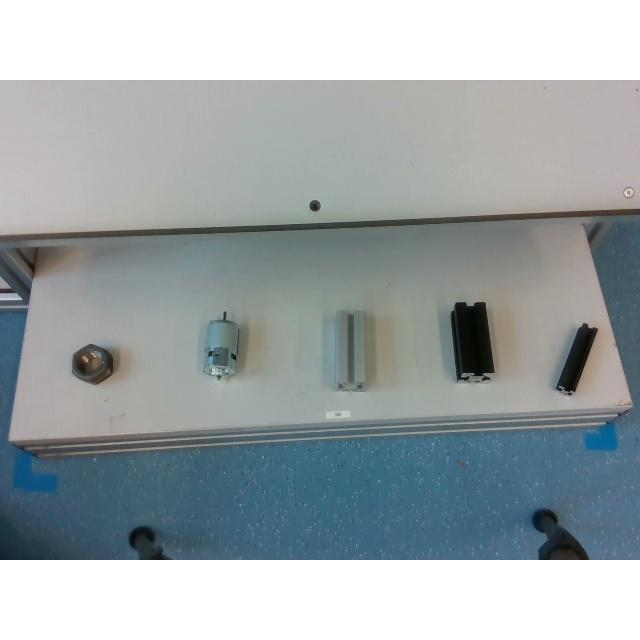F20_20_B: (556, 323, 596, 392)
M30: (72, 344, 112, 384)
Motor2: (202, 310, 238, 378)
S40_40_B: (451, 301, 493, 379)
S40_40_G: (337, 308, 368, 388)
